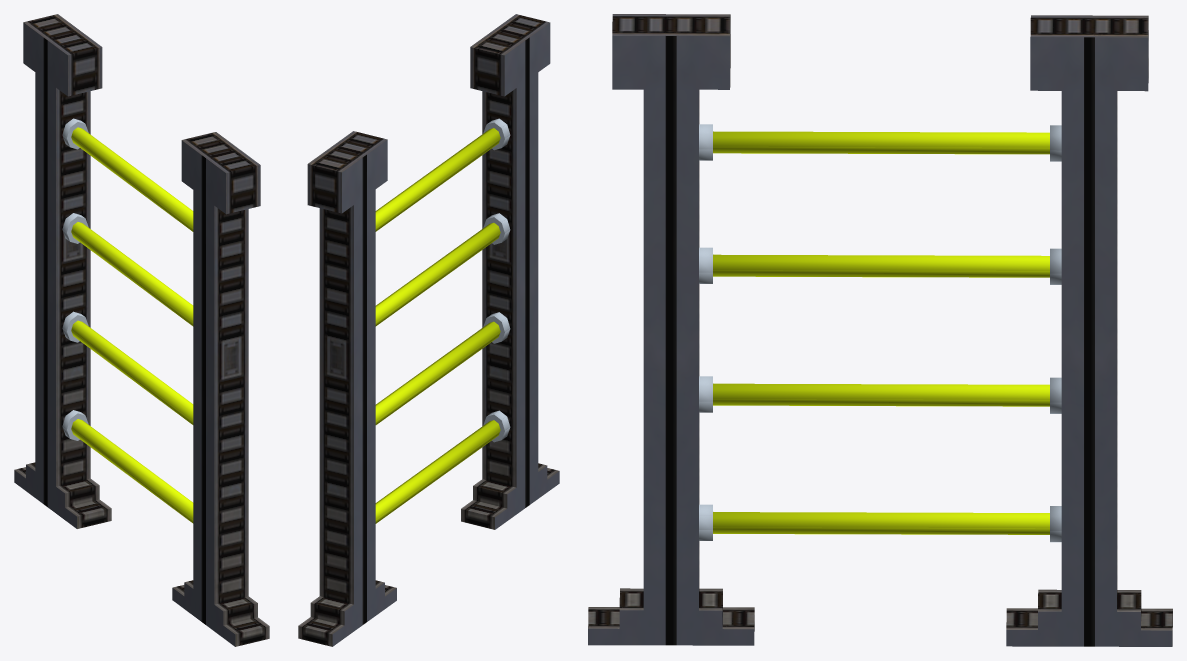
Rendered from ObstaculoLazer.fbx.
The picture shows the model from 3 angles, left to right: view 1: azimuth 30°, elevation 25°; view 2: azimuth 150°, elevation 25°; view 3: azimuth 270°, elevation 25°; orthographic projection. The views are drawn at different scales.
Visible parts, largest first — view 1: Laser.001; view 2: Laser.001; view 3: Laser.001.
Boxes of the visible parts, x1,y1,x2,y2 form: Laser.001: (14, 14, 269, 646); Laser.001: (298, 14, 559, 646); Laser.001: (588, 14, 1172, 646).
Size of the model in its own units: 94.07 by 1128 by 981.
1 material, 1 textured.
